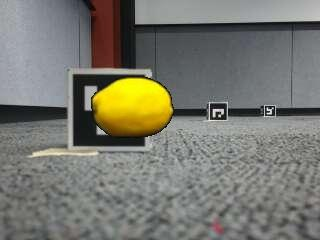lemon: (94, 78, 173, 137)
